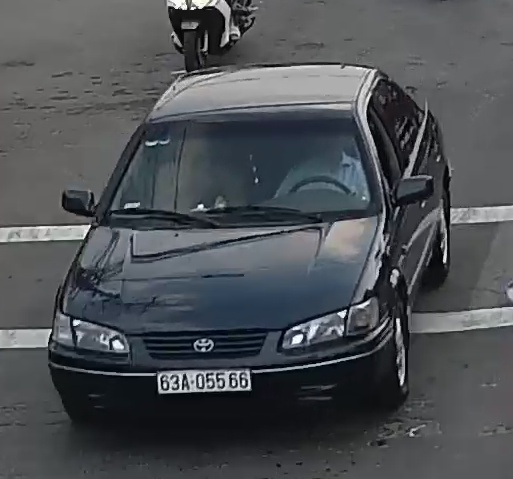vehicle plate: (153, 368, 257, 396)
